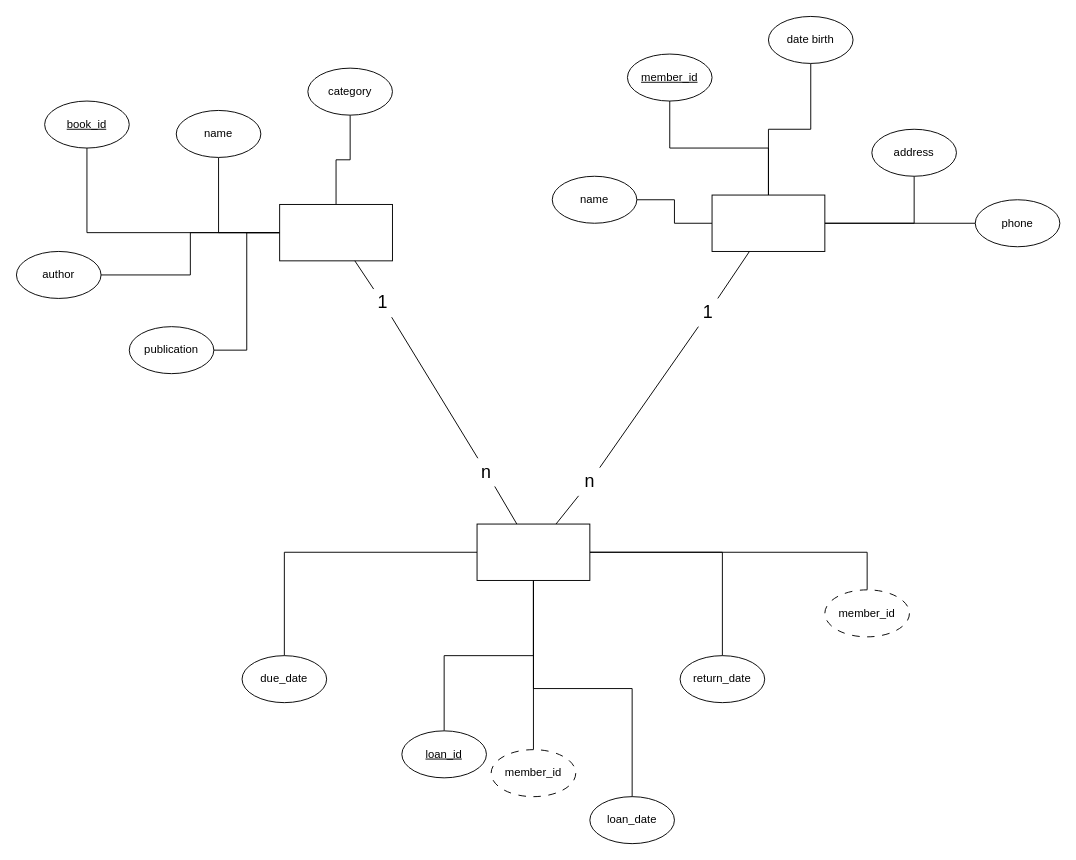
This 1076x860 diagram has some shape labels left out. Each missing label, with the box of its shape:
Book: (279, 204, 392, 261)
loans: (476, 523, 590, 580)
member: (711, 194, 825, 251)
